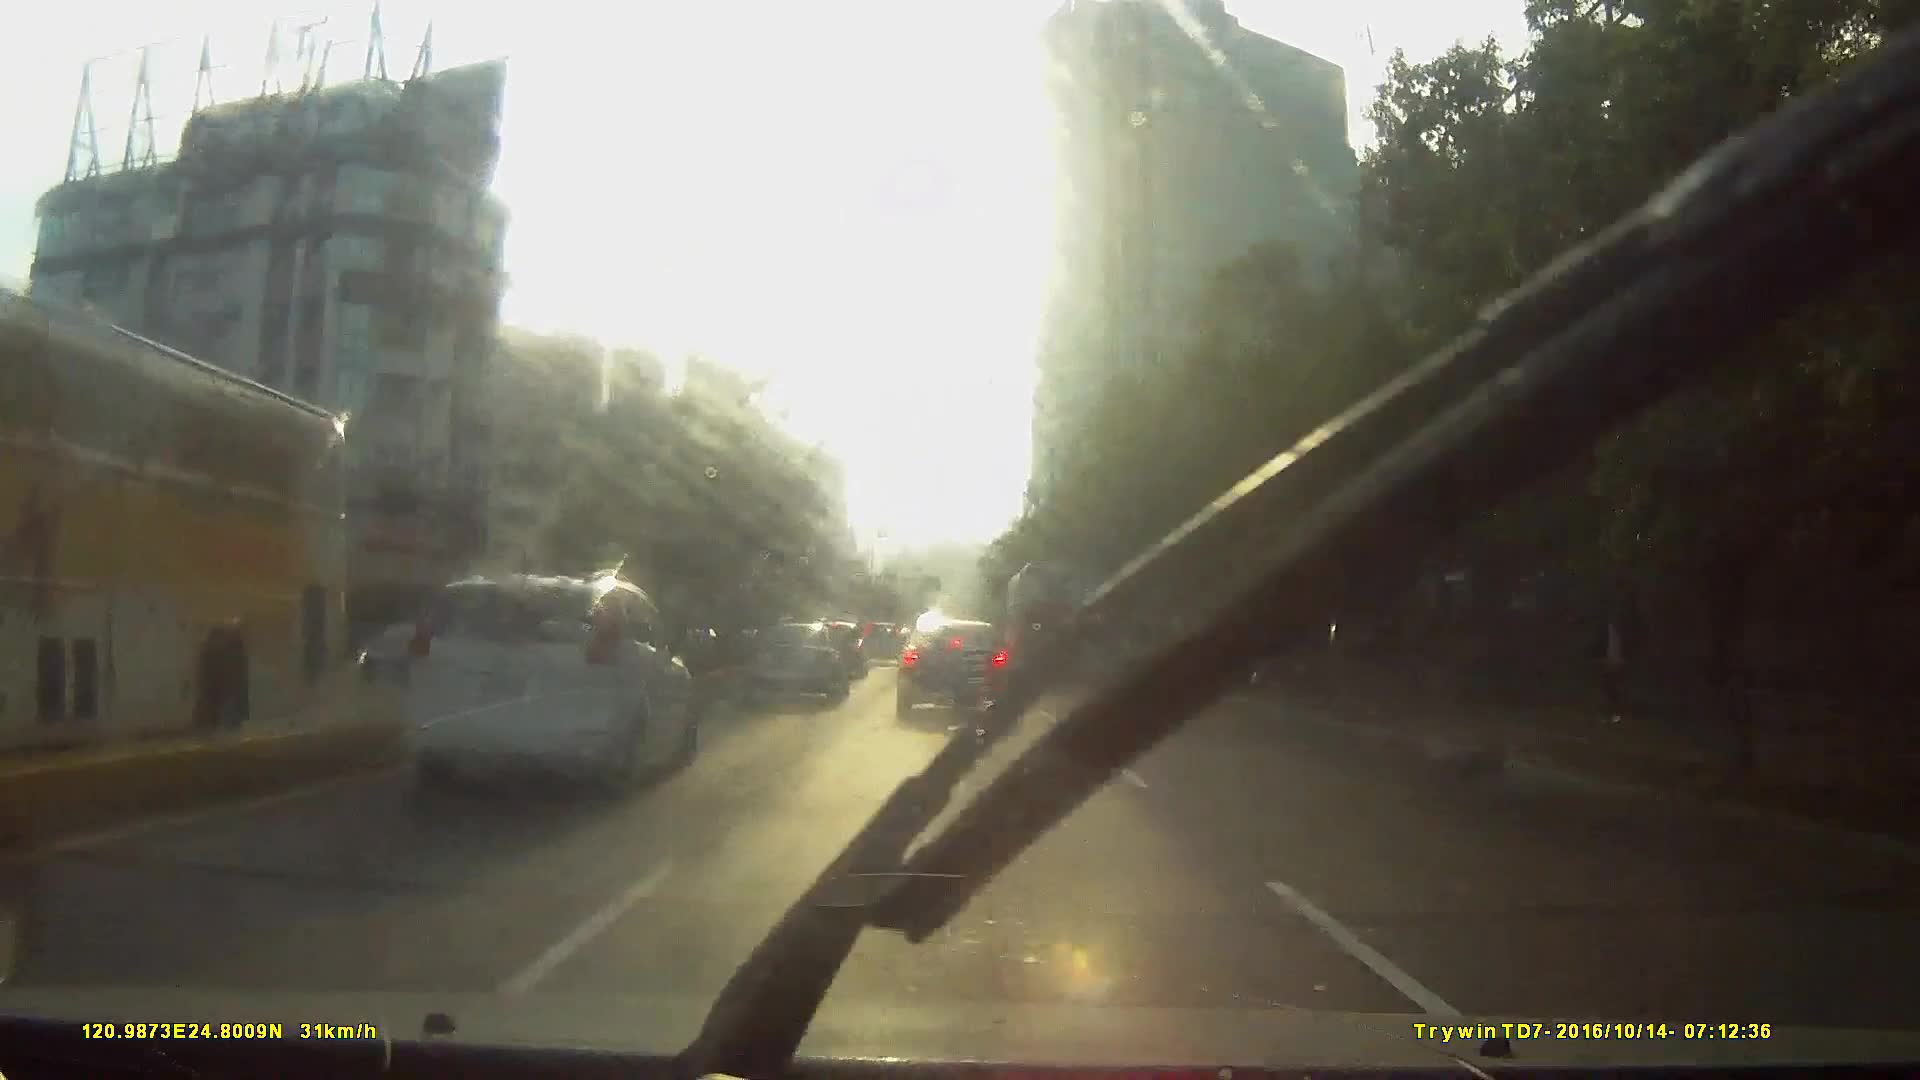pedestrian: (1571, 581, 1645, 736)
vehicle: (1, 283, 369, 790), (250, 556, 684, 868), (389, 567, 696, 792), (1006, 558, 1112, 685), (891, 614, 1008, 723), (738, 620, 847, 704), (854, 616, 903, 665)
